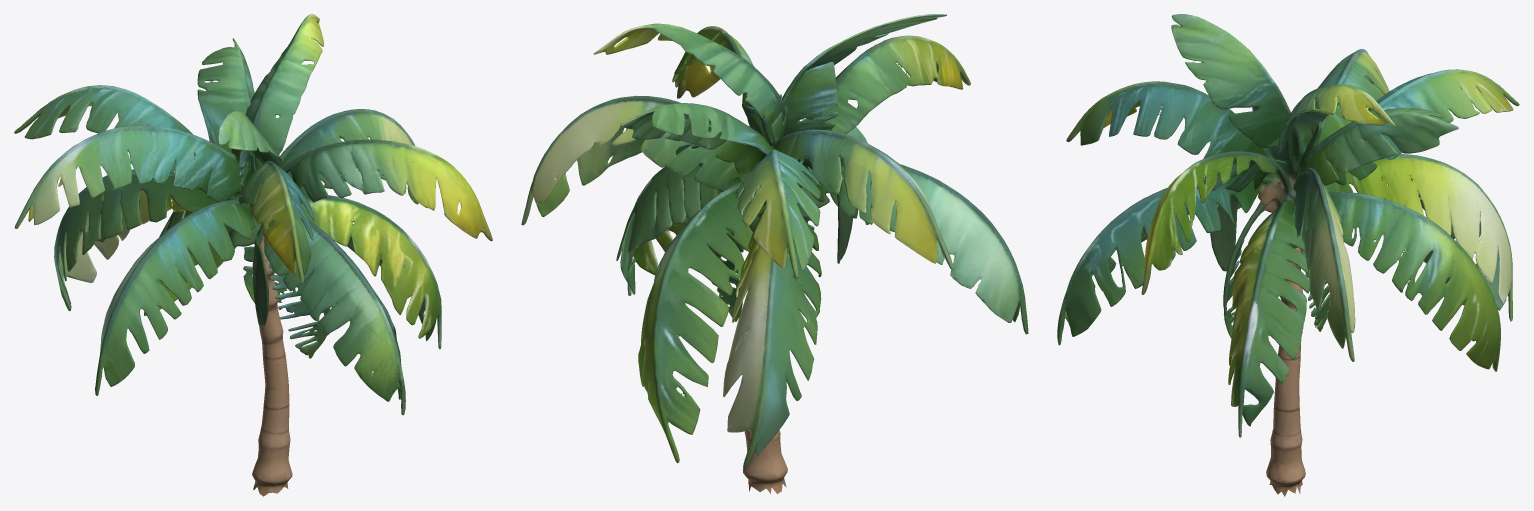
Rendered from palm-tree.glb.
The picture shows the model from 3 angles, left to right: view 1: azimuth 30°, elevation 25°; view 2: azimuth 150°, elevation 25°; view 3: azimuth 270°, elevation 25°; orthographic projection. The views are drawn at different scales.
Visible parts, largest first — view 1: geometry_0; view 2: geometry_0; view 3: geometry_0.
Boxes of the visible parts, x1,y1,x2,y2 form: geometry_0: [14, 14, 492, 496]; geometry_0: [521, 14, 1028, 493]; geometry_0: [1057, 14, 1519, 496].
Bounding box in the file's own units: 6.34 × 6.5 × 6.23.
Materials: 1 (1 with a texture image).
